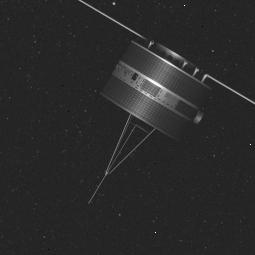double_start: (83, 20, 224, 160)
